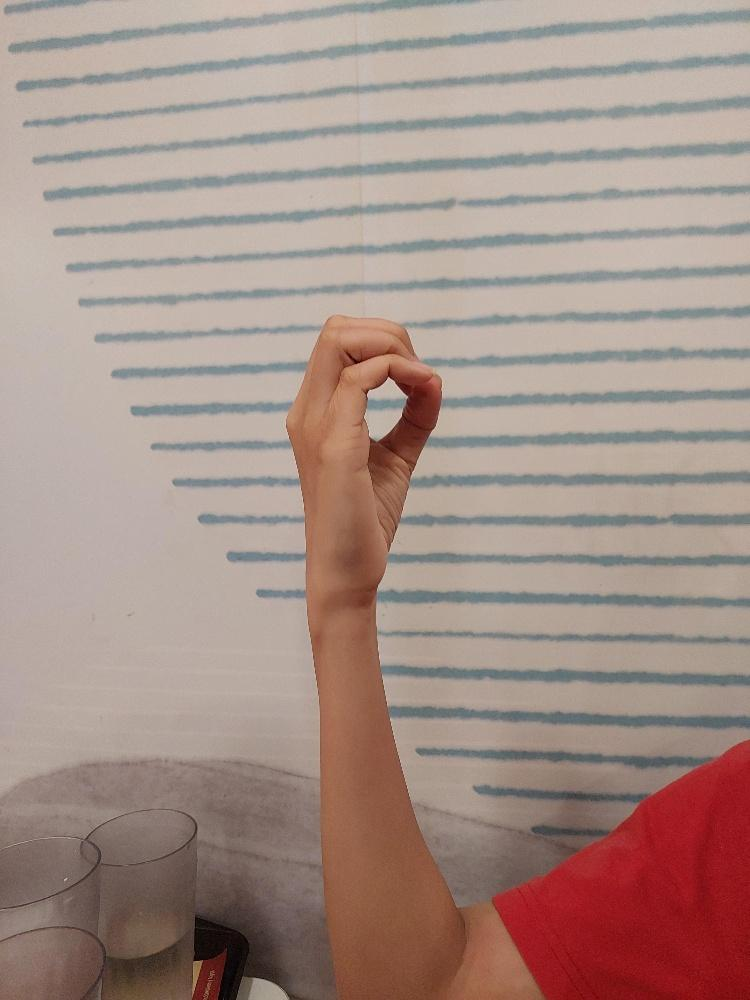o: (283, 310, 445, 603)
